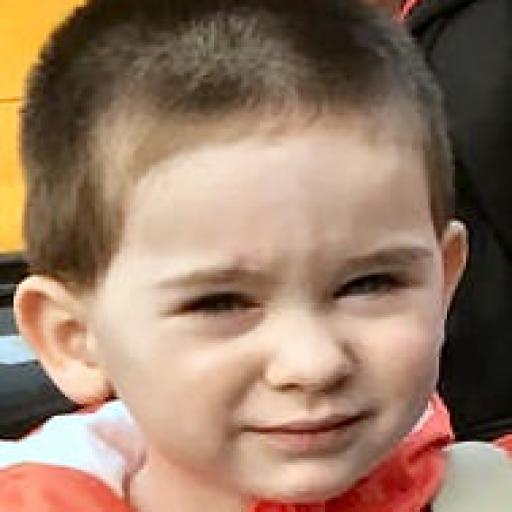Autism: (14, 12, 512, 499)
